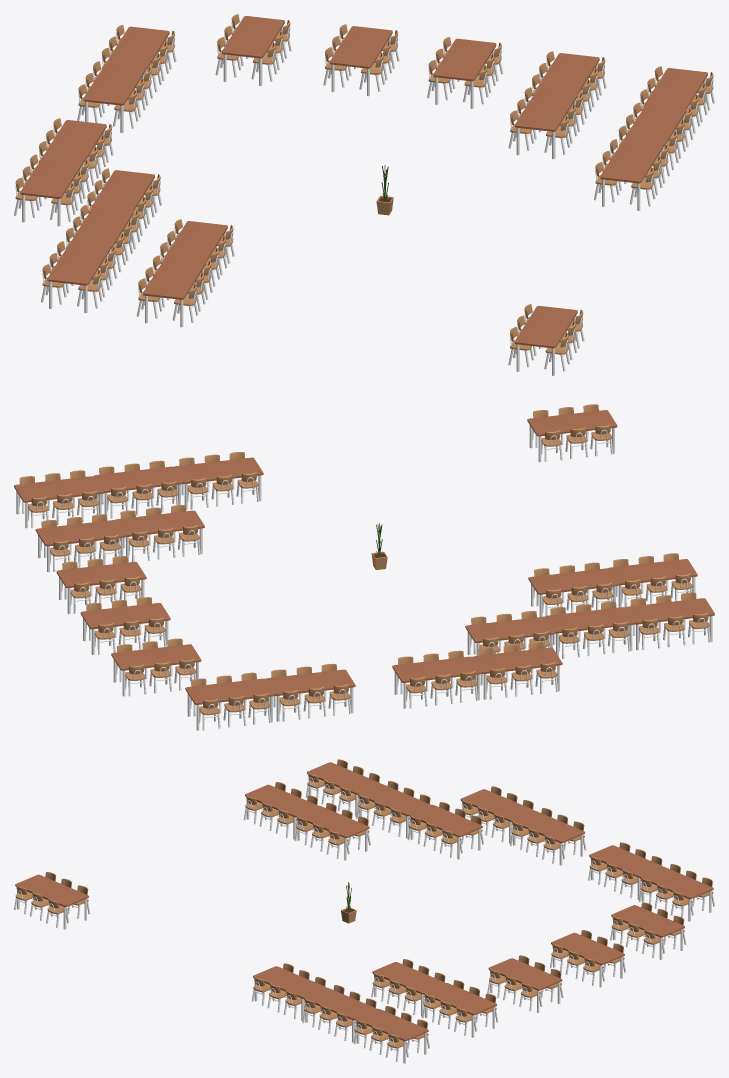
Rendered from d-roomcomp-r8-cafeteria-in.glb.
The picture shows the model from 3 angles, top to bottom: view 1: azimuth 30°, elevation 25°; view 2: azimuth 150°, elevation 25°; view 3: azimuth 270°, elevation 25°; orthographic projection. The views are drawn at different scales.
Visible parts, largest first — view 1: table.084, table.073, table.077, table.082, table.085, table.087, table.083, table.090, table.074, table.080, table.078, table.081 (+6 smaller); view 2: table.081, table.090, table.078, table.080, table.082, table.083, table.087, table.089, table.077, table.073, table.076, table.084 (+6 smaller); view 3: table.084, table.082, table.090, table.078, table.086, table.089, table.079, table.083, table.075, table.081, table.080, table.088 (+6 smaller).
Part boxes in pixels (x1,y1,x2,y2): table.084: (427,37,503,108); table.073: (41,241,117,312); table.077: (14,154,90,226); table.082: (215,14,291,85); table.085: (508,87,584,159); table.087: (594,139,669,210); table.083: (323,24,399,96); table.090: (508,304,584,375); table.074: (136,255,212,327); table.080: (77,61,152,132); table.078: (39,118,113,187); table.081: (102,25,176,94); table.081: (185,672,274,730); table.090: (527,404,617,462); table.078: (392,650,481,708); table.080: (266,663,355,721); table.082: (111,638,201,696); table.083: (80,597,170,654); table.087: (174,452,263,509); table.089: (14,470,103,528); table.077: (473,642,562,699); table.073: (625,592,714,650); table.076: (544,601,634,658); table.084: (56,556,146,613); table.084: (487,955,563,1012); table.082: (610,902,686,959); table.090: (14,872,90,929); table.078: (510,808,586,865); table.086: (422,980,498,1037); table.089: (353,1006,429,1063); table.079: (407,802,483,859); table.083: (550,930,625,987); table.075: (294,803,370,860); table.081: (638,864,714,921); table.080: (588,842,662,899); table.088: (302,985,376,1042).
Size of the model in its own units: 25.12 by 1.72 by 26.69.
Materials: 1 (1 with a texture image).
